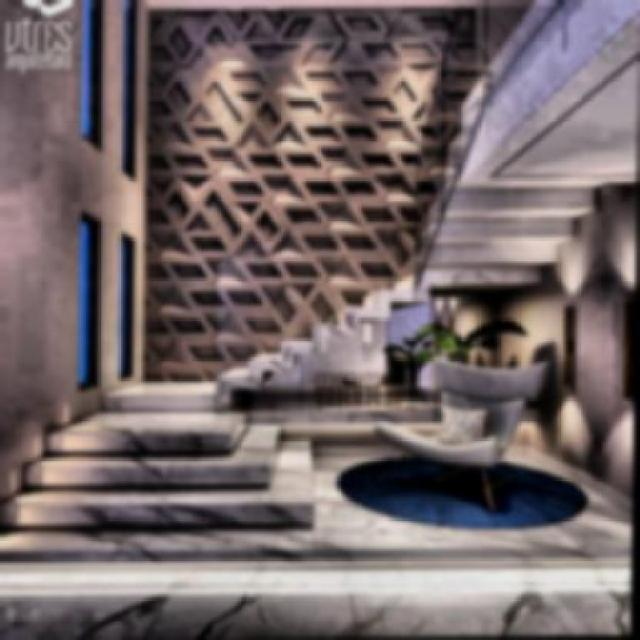stair: (0, 382, 329, 543)
